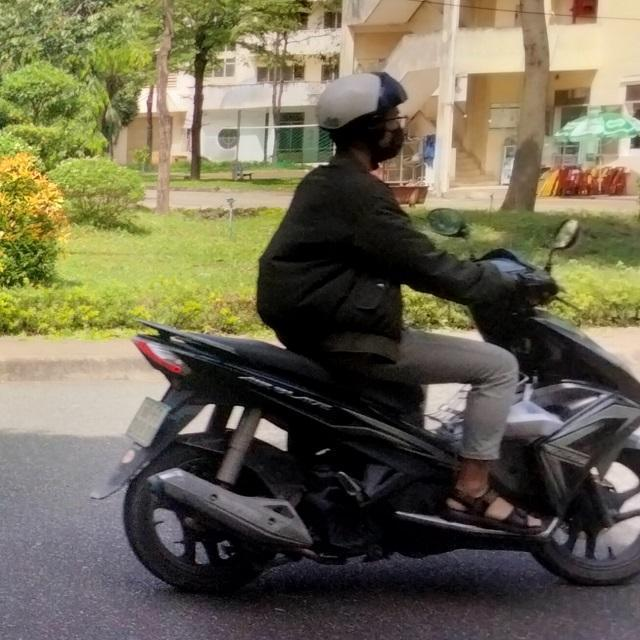Helmet: (316, 68, 406, 162)
